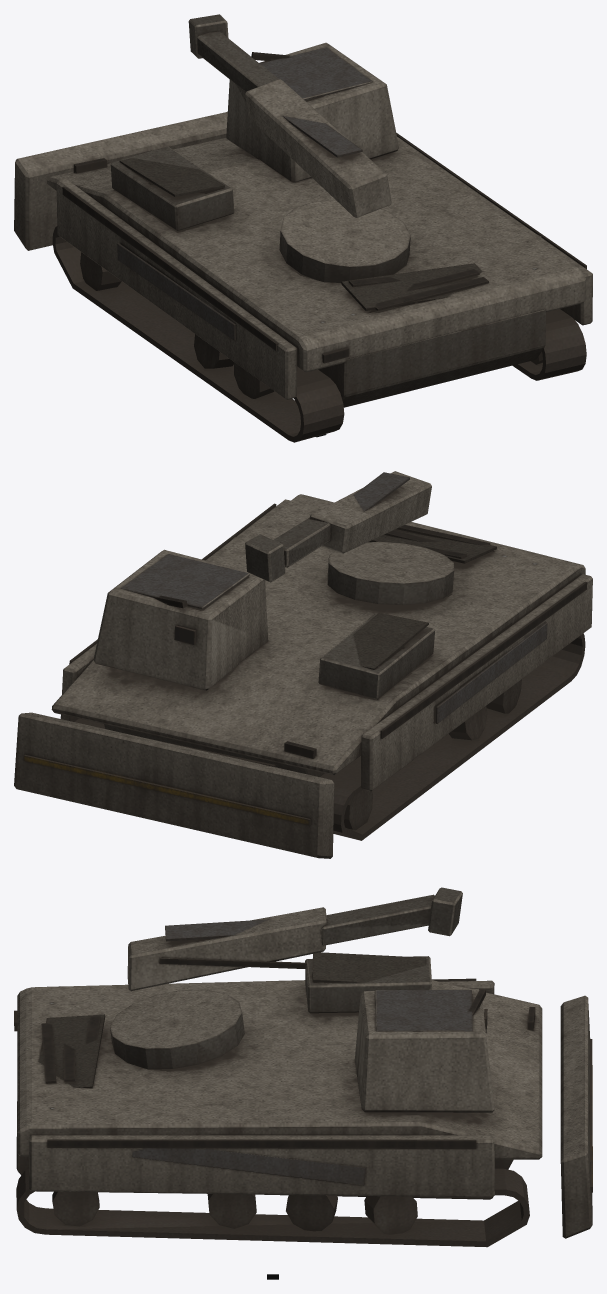
File: ord_magistrate_wreck.fbx
3 views of the same model, one above another, from view 1: azimuth 30°, elevation 25°; view 2: azimuth 150°, elevation 25°; view 3: azimuth 270°, elevation 25° (orthographic). The views are drawn at different scales.
Visible parts, largest first — view 1: base_bar, nano_bar, trackL_bar, trackR_bar; view 2: base_bar, nano_bar, trackL_bar; view 3: base_bar, nano_bar, trackR_bar.
Boxes of the visible parts, bbox=[...] form: base_bar: bbox=[14, 42, 592, 407]; nano_bar: bbox=[188, 14, 410, 282]; trackL_bar: bbox=[52, 226, 344, 442]; trackR_bar: bbox=[512, 309, 586, 380]; base_bar: bbox=[14, 494, 592, 858]; nano_bar: bbox=[245, 471, 454, 604]; trackL_bar: bbox=[320, 633, 585, 840]; base_bar: bbox=[14, 952, 592, 1238]; nano_bar: bbox=[110, 887, 462, 1069]; trackR_bar: bbox=[16, 1168, 529, 1247].
Size of the model in its own units: 619 by 673 by 954.
Materials: 2 (2 with a texture image).
